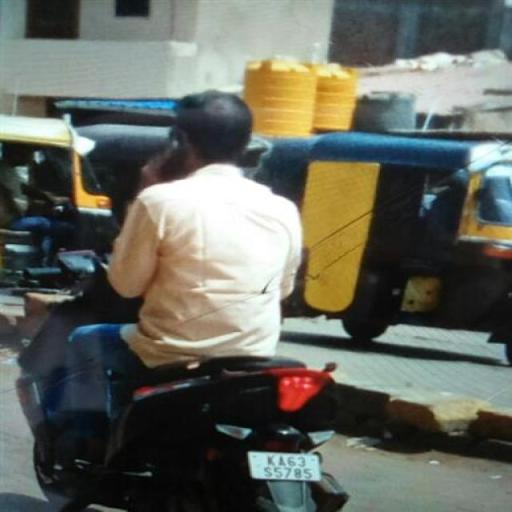using mobile: (139, 131, 192, 194)
